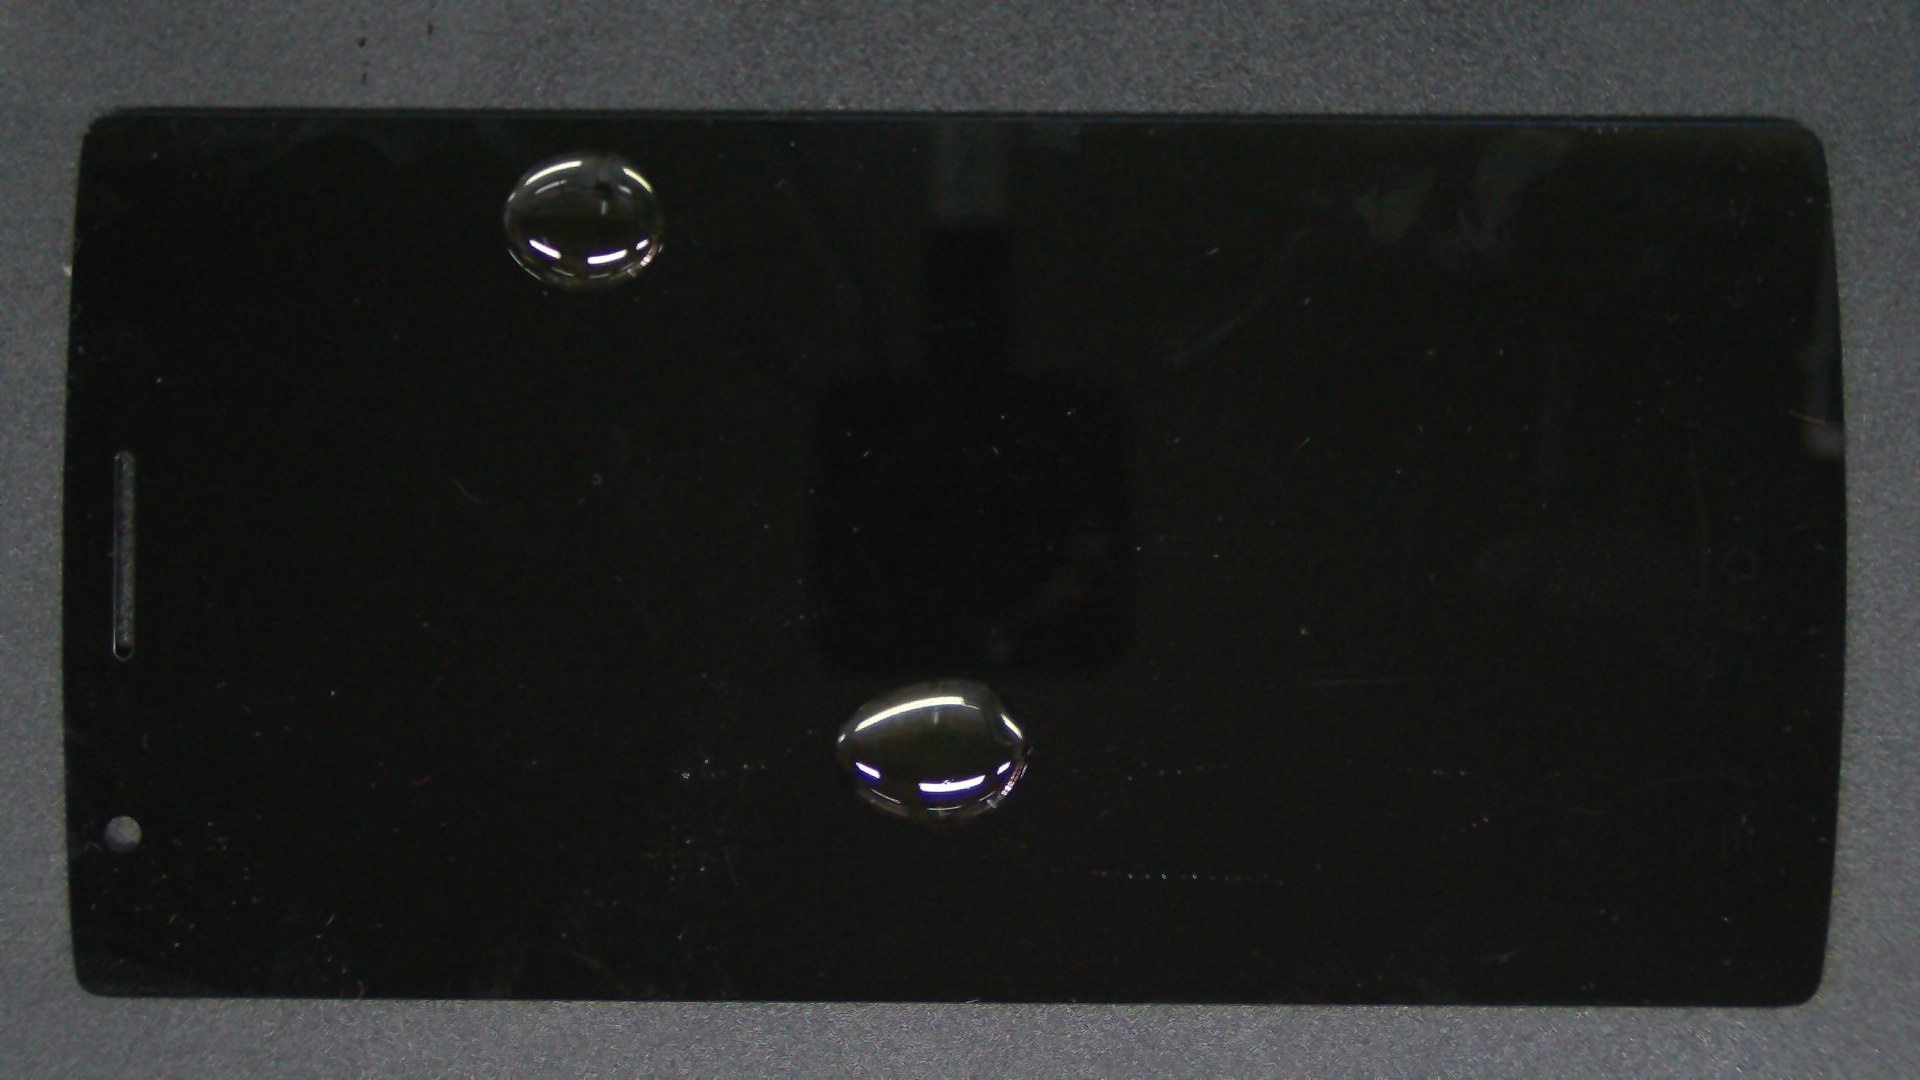oil: (476, 339, 1428, 1019), (297, 74, 889, 223)
